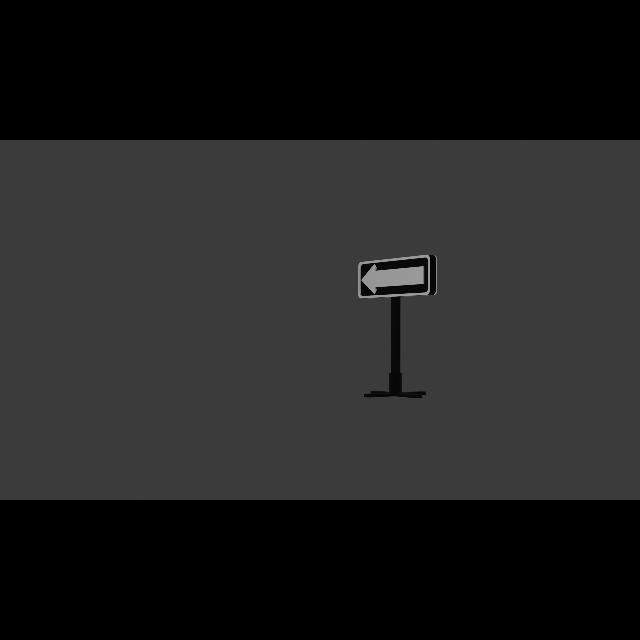sign_oneway_left: (360, 256, 439, 299)
